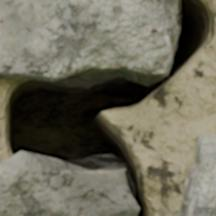brick: (0, 0, 175, 80), (0, 152, 138, 215), (179, 136, 215, 215)
crack: (0, 0, 214, 215)
